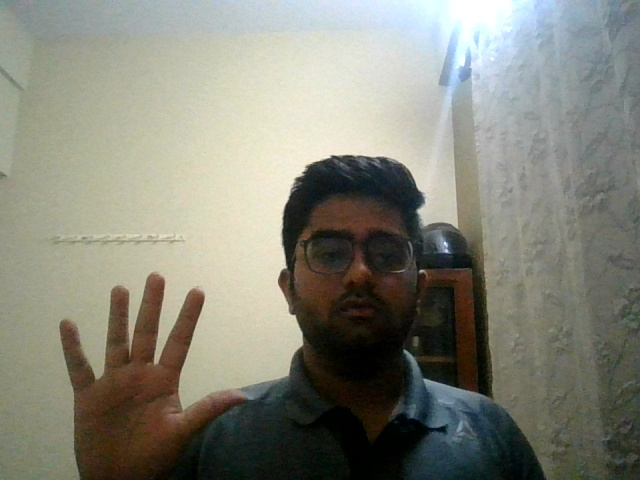Hello: (39, 264, 249, 480)
